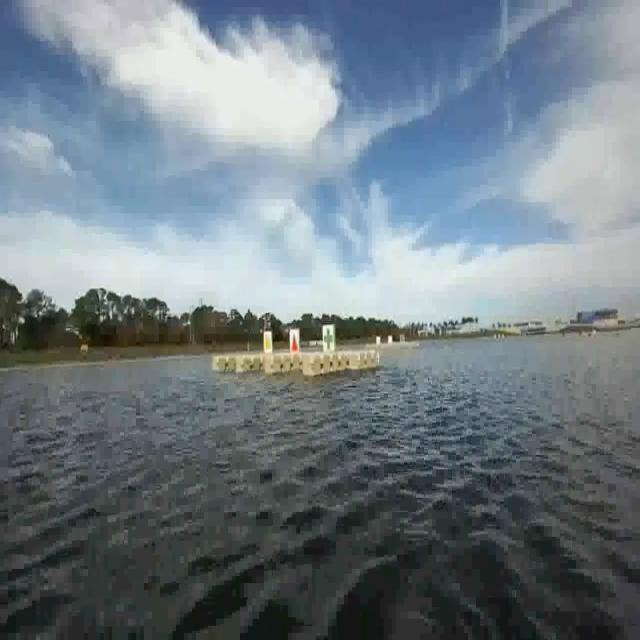blue-cross: (322, 326, 334, 347)
red-dot: (289, 328, 300, 352)
yellow-duck: (259, 328, 274, 353)
